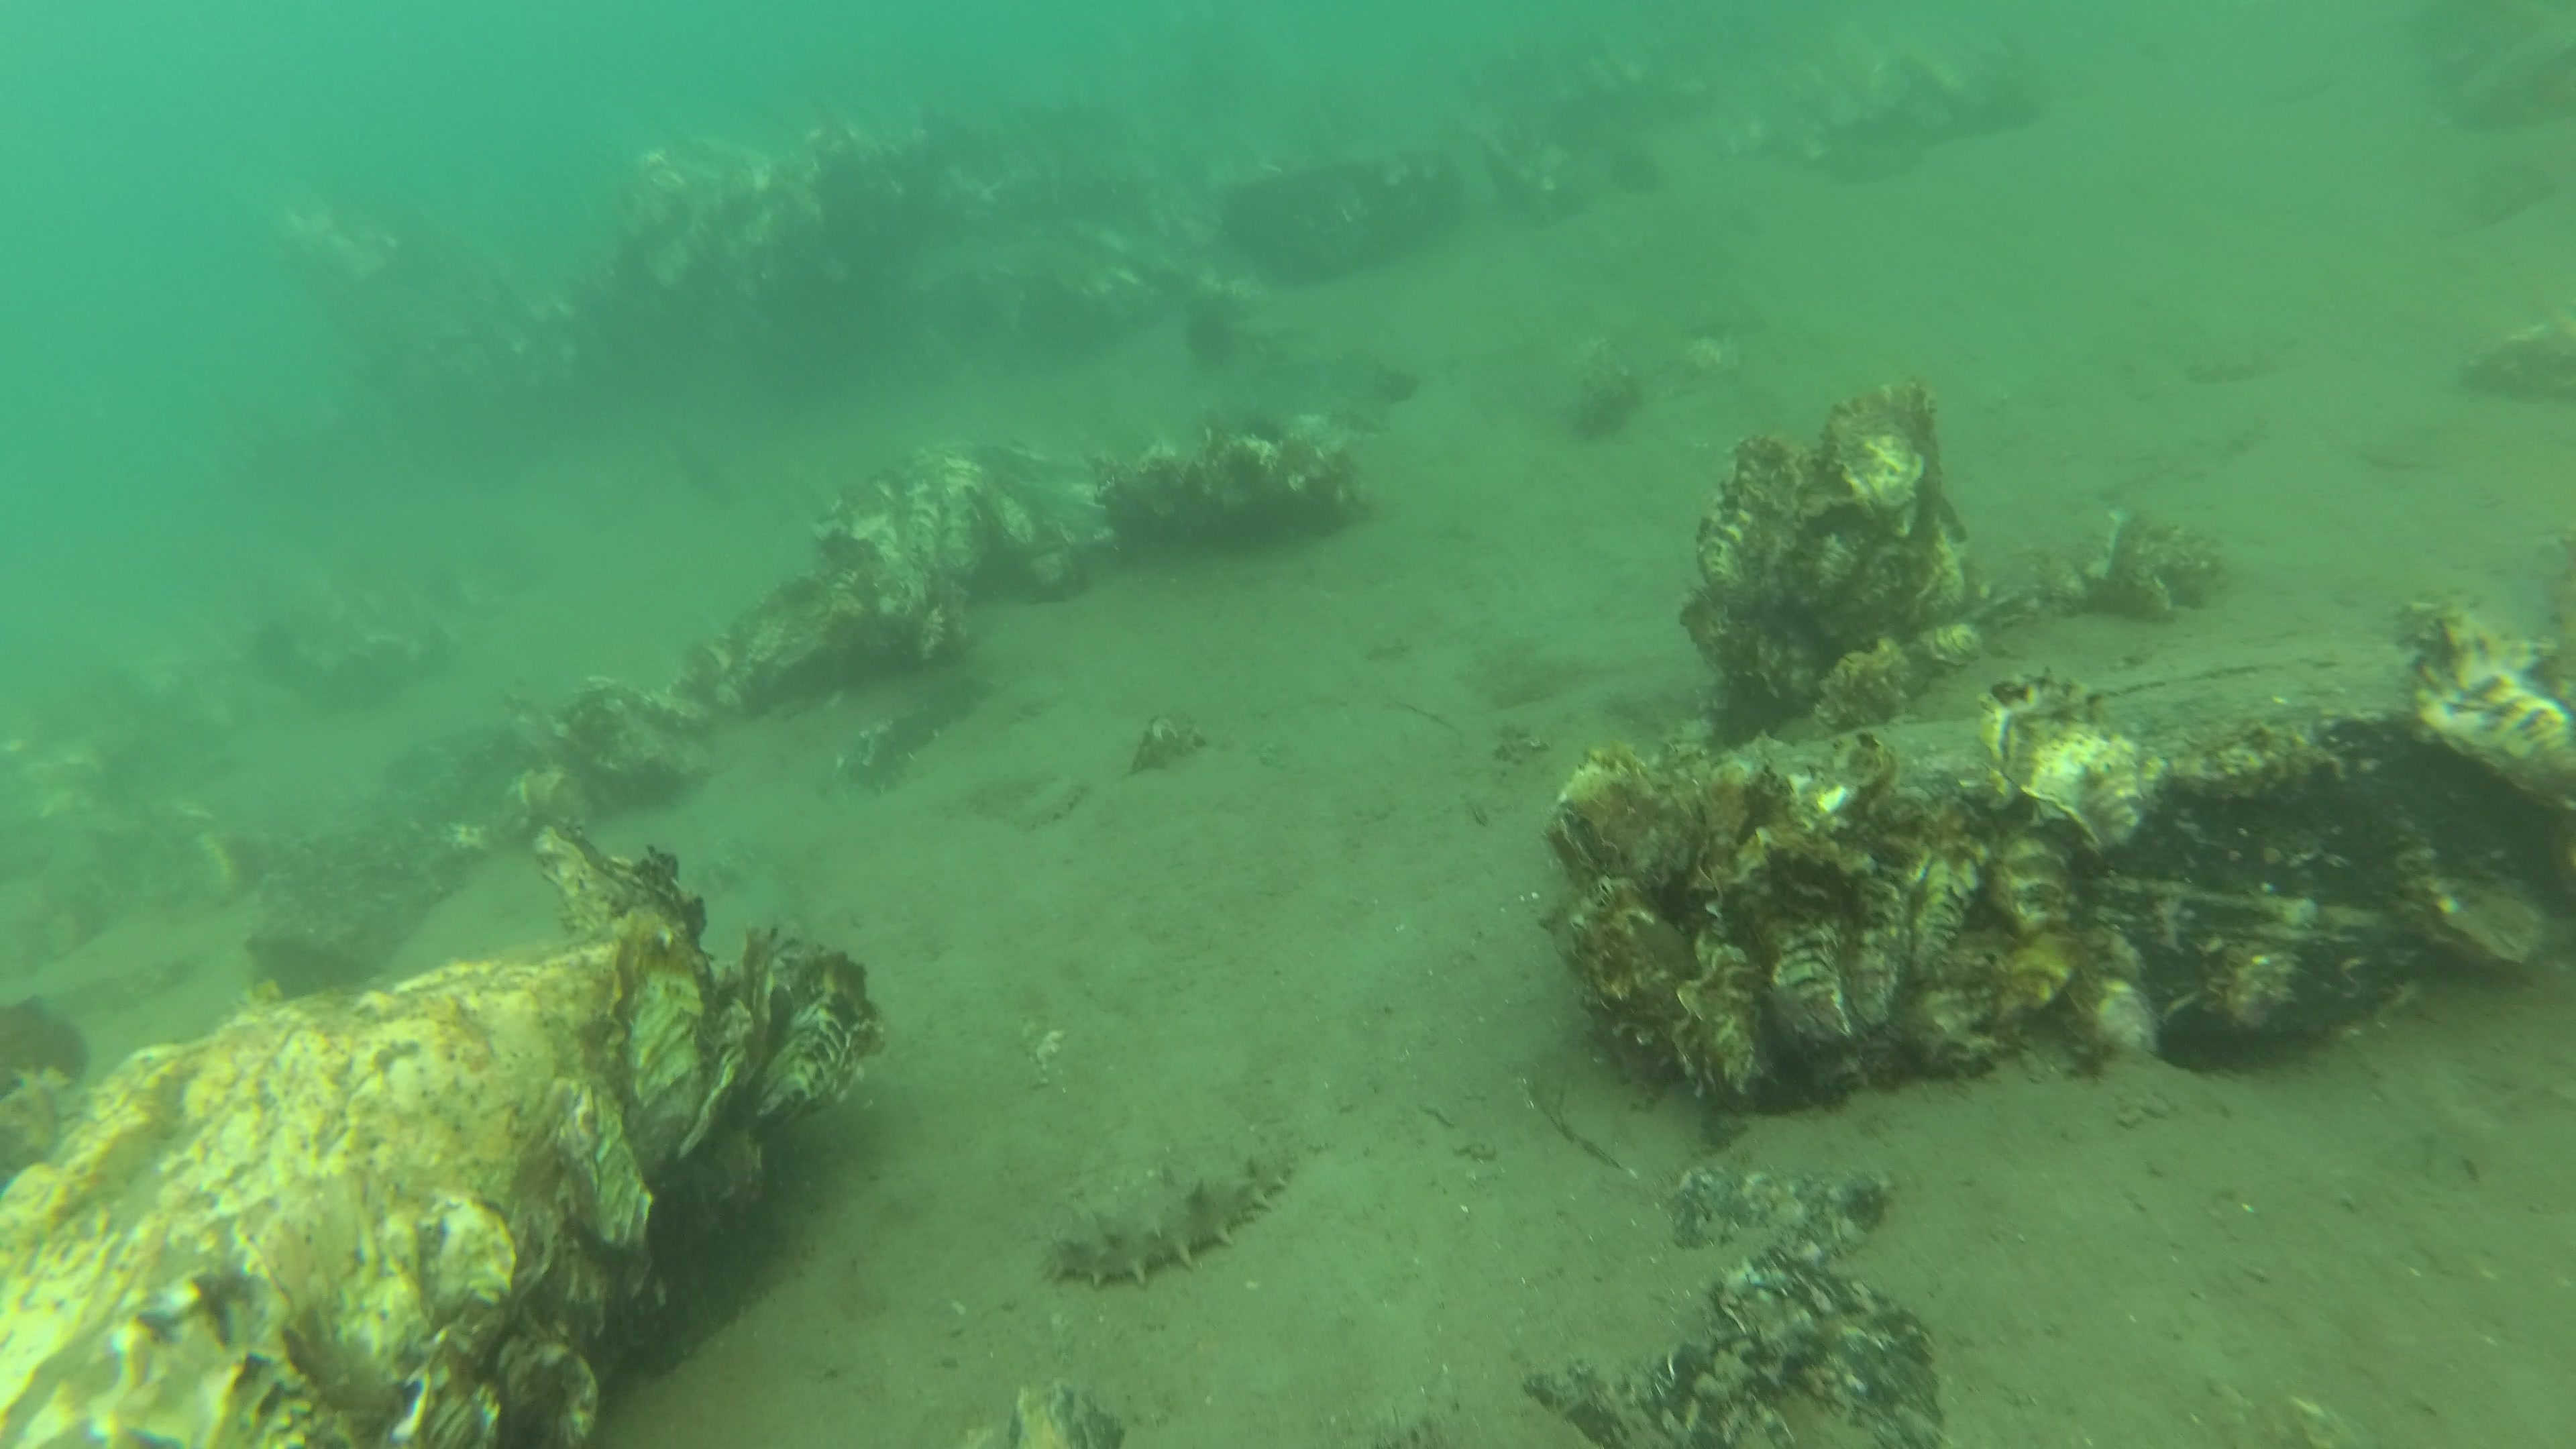echinus: (1182, 311, 1240, 368), (1608, 145, 1663, 196), (1244, 414, 1284, 446)
holothurian: (1049, 1141, 1302, 1292)
